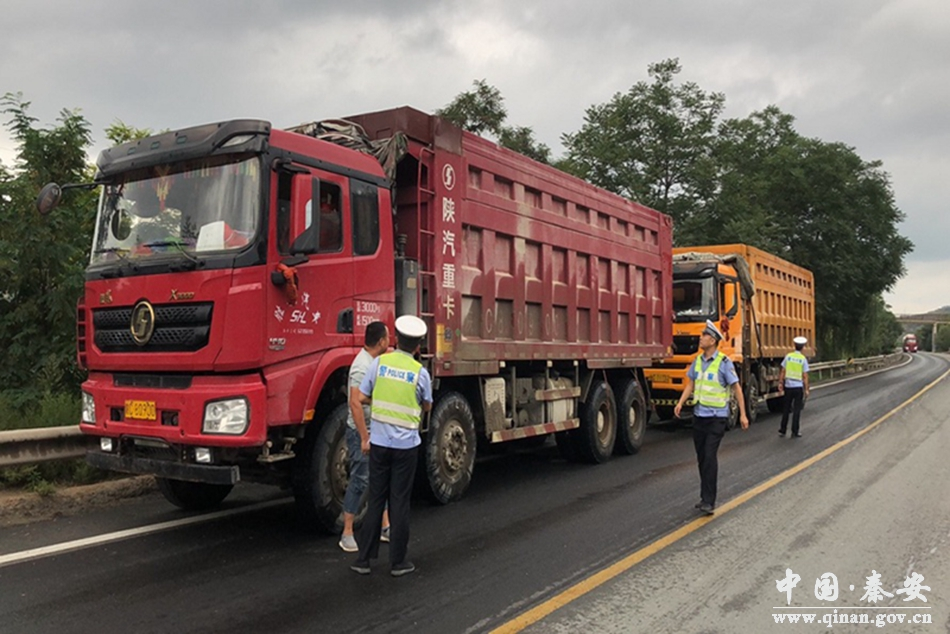garbagetruck: (88, 103, 673, 496), (660, 237, 822, 438)
